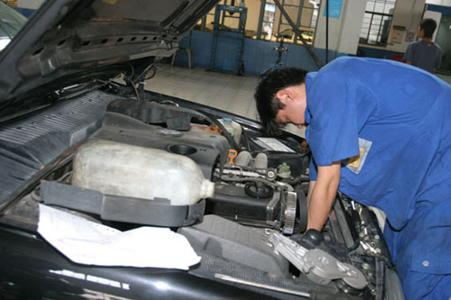person: (255, 56, 450, 300)
